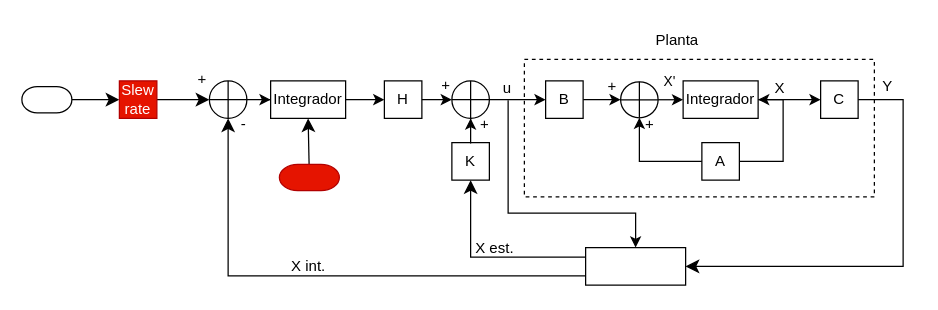
Some shapes in this 938 by 310 pixel diagram are drawn without their labels. The shapes that lost their labels are listed below. From the top down, each one's centre as x and y in pixels, then its label:
(x=46, y=99): Ref.
(x=308, y=177): q max
(x=635, y=265): Observador
